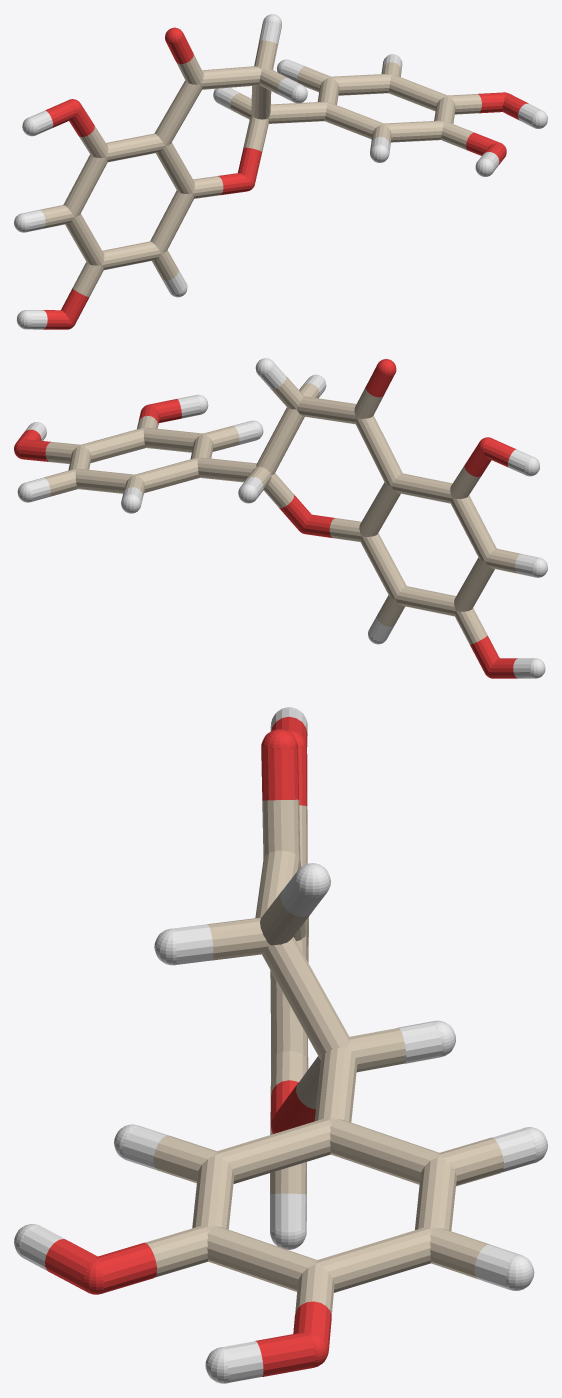
The model's file is eridictyol.fbx.
3 views of the same model, one above another, from view 1: azimuth 30°, elevation 25°; view 2: azimuth 150°, elevation 25°; view 3: azimuth 270°, elevation 25° (orthographic). The views are drawn at different scales.
Parts seen in each view (by area): view 1: Shape_Cylinder.033, Shape_Cylinder.036, Shape_Cylinder.037, Shape_Cylinder.026, Shape_Cylinder.023, Shape_Cylinder.044, Shape_Cylinder.035, Shape_Cylinder.038, Shape_Cylinder.051, Shape_Cylinder.031, Shape_Cylinder.041, Shape_Cylinder.047 (+28 smaller); view 2: Shape_Cylinder.033, Shape_Cylinder.022, Shape_Cylinder.037, Shape_Cylinder.036, Shape_Cylinder.050, Shape_Cylinder.032, Shape_Cylinder.035, Shape_Cylinder.044, Shape_Cylinder.026, Shape_Cylinder.023, Shape_Cylinder.034, Shape_Cylinder.047 (+27 smaller); view 3: Shape_Cylinder.022, Shape_Cylinder.031, Shape_Cylinder.051, Shape_Cylinder.050, Shape_Cylinder.032, Shape_Cylinder.023, Shape_Cylinder.038, Shape_Cylinder.041, Shape_Cylinder.015, Shape_Cylinder.034, Shape_Cylinder.014, Shape_Cylinder.005 (+27 smaller).
Part boxes in pixels (x1,y1,x2,y2): Shape_Cylinder.033: [154, 80, 202, 146]; Shape_Cylinder.036: [150, 190, 194, 253]; Shape_Cylinder.037: [63, 154, 107, 216]; Shape_Cylinder.026: [201, 66, 261, 89]; Shape_Cylinder.023: [268, 101, 327, 123]; Shape_Cylinder.044: [102, 241, 161, 270]; Shape_Cylinder.035: [106, 133, 165, 162]; Shape_Cylinder.038: [384, 120, 443, 142]; Shape_Cylinder.051: [388, 74, 447, 111]; Shape_Cylinder.031: [324, 102, 383, 139]; Shape_Cylinder.041: [332, 74, 391, 95]; Shape_Cylinder.047: [65, 213, 104, 265]; Shape_Cylinder.033: [355, 415, 402, 485]; Shape_Cylinder.022: [256, 407, 304, 474]; Shape_Cylinder.037: [450, 495, 496, 560]; Shape_Cylinder.036: [360, 533, 406, 598]; Shape_Cylinder.050: [81, 428, 145, 463]; Shape_Cylinder.032: [135, 458, 199, 492]; Shape_Cylinder.035: [391, 473, 452, 503]; Shape_Cylinder.044: [395, 586, 456, 616]; Shape_Cylinder.026: [296, 396, 356, 424]; Shape_Cylinder.023: [197, 457, 256, 482]; Shape_Cylinder.034: [359, 482, 400, 536]; Shape_Cylinder.047: [454, 557, 494, 611]; Shape_Cylinder.022: [262, 937, 349, 1059]; Shape_Cylinder.031: [215, 1119, 331, 1183]; Shape_Cylinder.051: [316, 1227, 431, 1292]; Shape_Cylinder.050: [207, 1226, 317, 1291]; Shape_Cylinder.032: [330, 1119, 439, 1184]; Shape_Cylinder.023: [315, 1047, 357, 1122]; Shape_Cylinder.038: [192, 1155, 234, 1229]; Shape_Cylinder.041: [415, 1157, 456, 1230]; Shape_Cylinder.015: [145, 1226, 209, 1277]; Shape_Cylinder.034: [270, 934, 308, 1061]; Shape_Cylinder.014: [96, 1242, 156, 1292]; Shape_Cylinder.005: [262, 799, 300, 859].
Size of the model in its own units: 1216 by 625 by 578.
